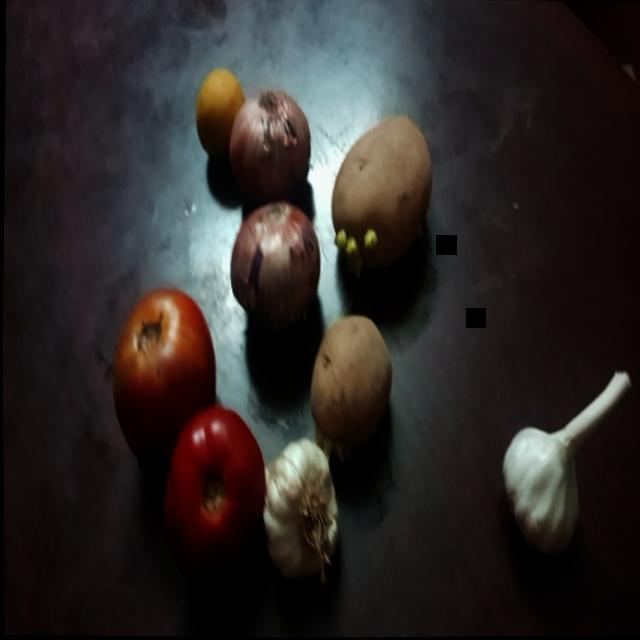garlic: (488, 366, 638, 562), (244, 430, 341, 588)
lemon: (192, 66, 250, 160)
onion: (215, 192, 324, 327), (225, 82, 313, 210)
potato: (330, 113, 431, 280), (298, 311, 395, 460)
tomato: (137, 404, 277, 596), (93, 287, 220, 472)
